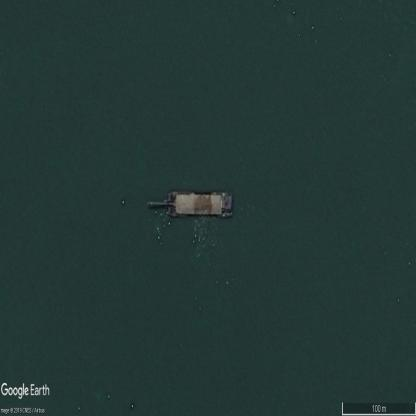ship: (146, 187, 234, 219)
